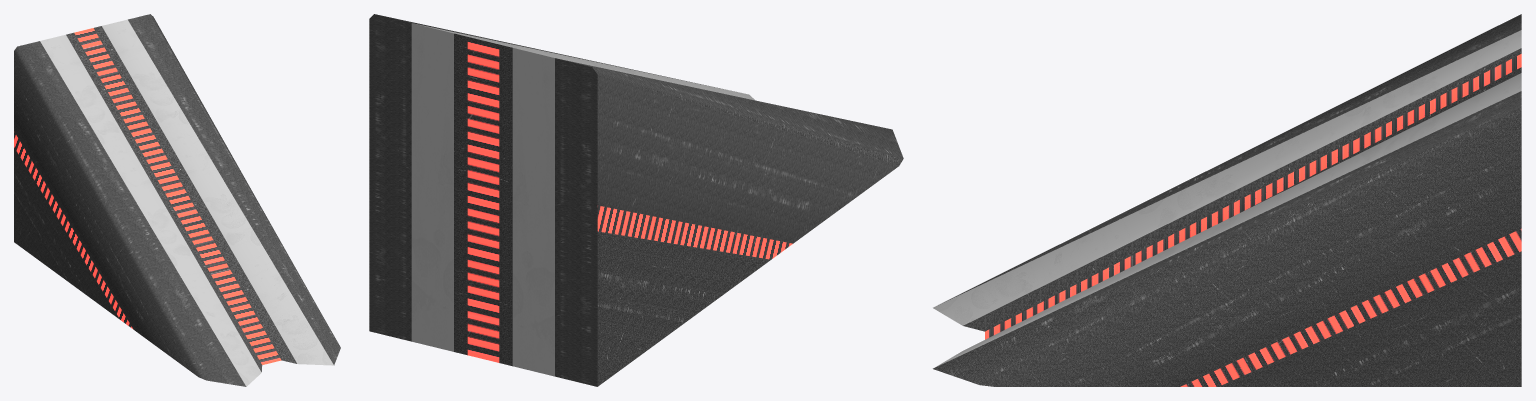
File: SmallRamp.fbx
3 renders of one model, left to right at view 1: azimuth 30°, elevation 25°; view 2: azimuth 150°, elevation 25°; view 3: azimuth 270°, elevation 25°, orthographic. The views are drawn at different scales.
Visible parts, largest first — view 1: SmallRamp; view 2: SmallRamp; view 3: SmallRamp.
Part boxes in pixels (<box>): SmallRamp: <box>14,14,340,386</box>; SmallRamp: <box>369,14,903,386</box>; SmallRamp: <box>933,14,1521,386</box>.
Bounding box in the file's own units: 300 × 400 × 768.
